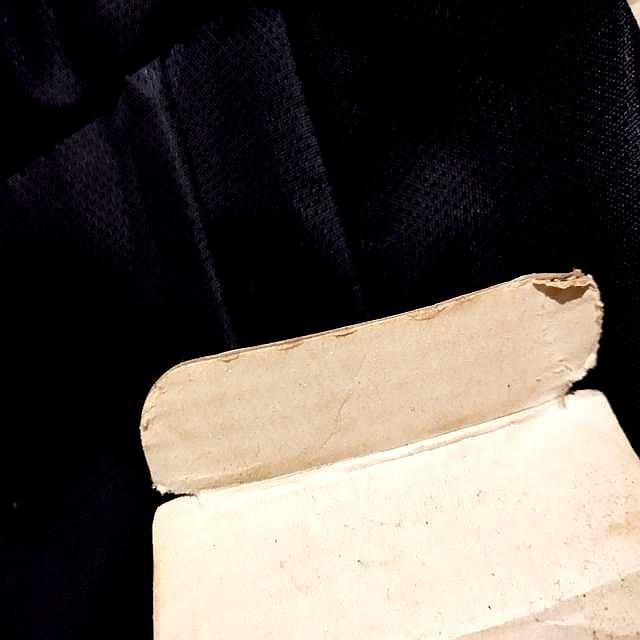Biodegradable: (141, 269, 640, 640)
